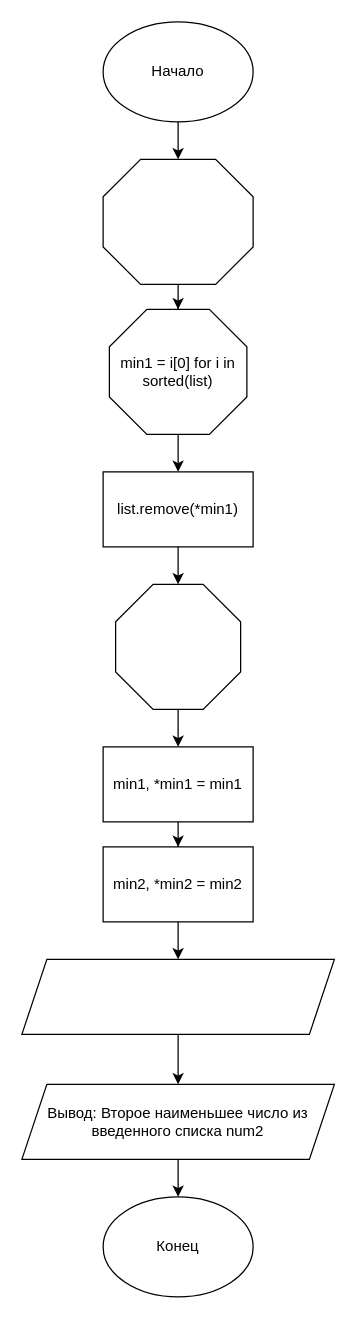
This 356x1319 diagram has some shape labels left out. Here are the shapes that lost their labels. From the top down, the box of each, then its label:
(102, 158, 253, 284): list = int(i) for i in input(Введите числа через пробел).split
(114, 583, 241, 709): min2 =i[0] for i in sorted(list)
(21, 958, 334, 1034): Вывод: Первое наименьшее число из введенного списка num1
